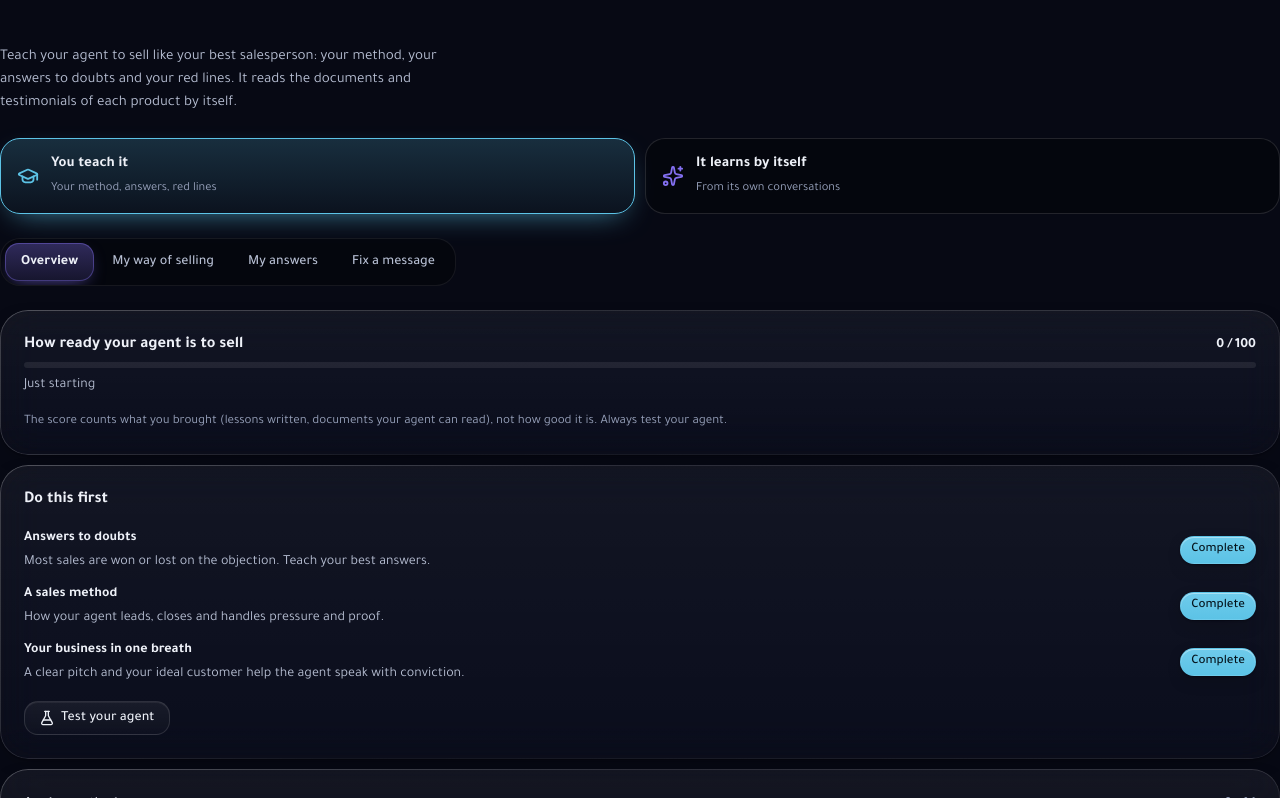
training page: what you teach, and what the agent learns by itself › shows only what the agent learned on its own, and none of the client's own training
The image size is (1280, 798).
Expected: the element with test id "training-readiness" is shown, [0,310,1279,455]
Step 1. Click the tab "It learns by itself From its own conversations" → (751, 164), box [645,138,1279,214]
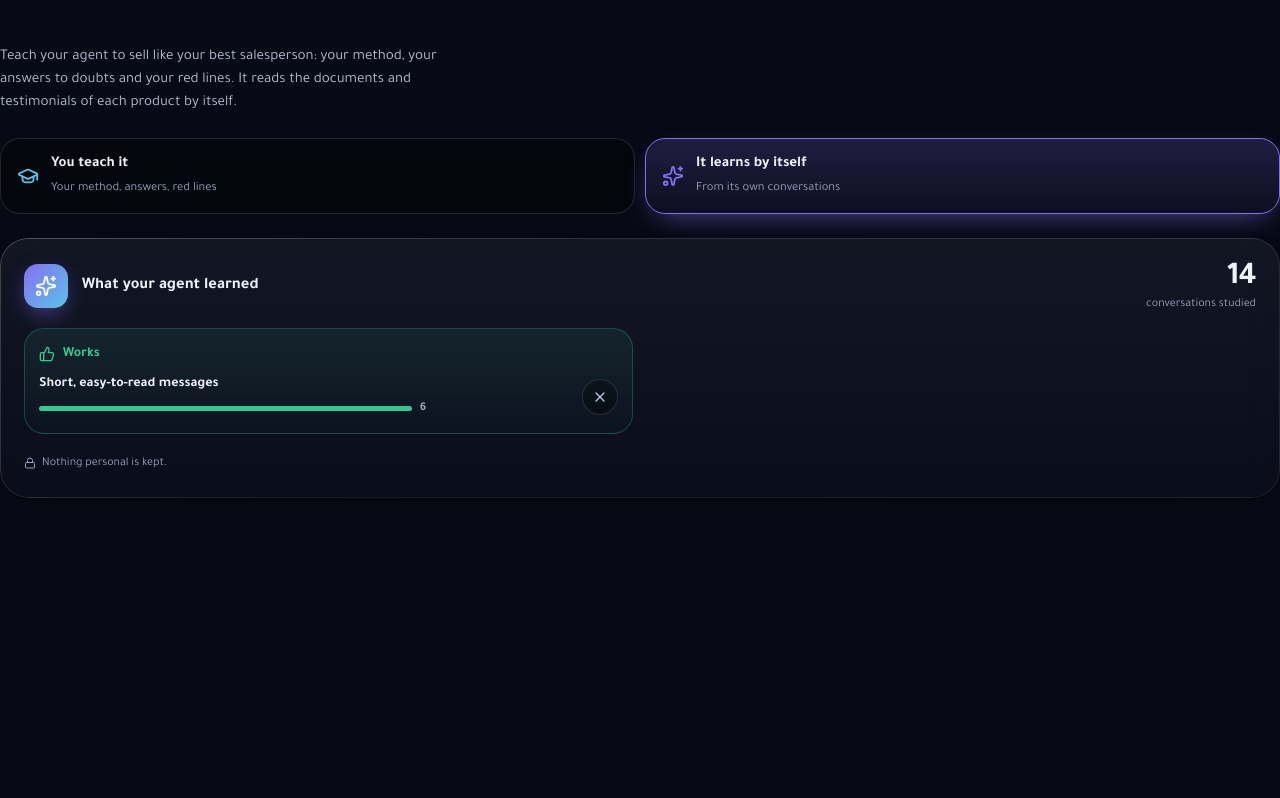
Result: the text "Short, easy-to-read messages" is shown at [39,377,218,391]
Result: the element with test id "training-readiness" is gone
